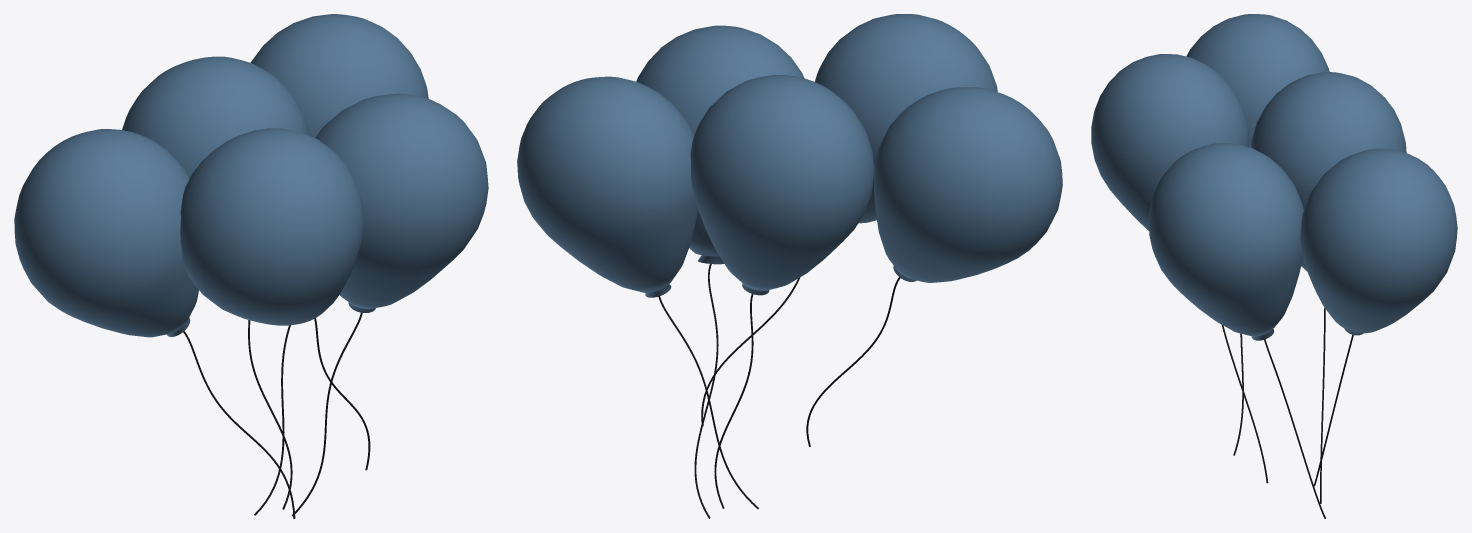
Rendered from balloons.fbx.
3 views of the same model, side by side, from view 1: azimuth 30°, elevation 25°; view 2: azimuth 150°, elevation 25°; view 3: azimuth 270°, elevation 25° (orthographic). The views are drawn at different scales.
Visible parts, largest first — view 1: Sphere.001, Sphere.004, Sphere.005, Sphere.002, Sphere.003, NurbsPath.001; view 2: Sphere.002, Sphere.003, Sphere.001, Sphere.004, Sphere.005, NurbsPath.001; view 3: Sphere.005, Sphere.003, Sphere.004, Sphere.002, Sphere.001, NurbsPath.001.
Boxes of the visible parts, bbox=[...] form: Sphere.001: bbox=[14, 129, 198, 337]; Sphere.004: bbox=[180, 128, 363, 325]; Sphere.005: bbox=[315, 93, 488, 312]; Sphere.002: bbox=[122, 56, 308, 178]; Sphere.003: bbox=[250, 14, 428, 137]; NurbsPath.001: bbox=[183, 312, 370, 518]; Sphere.002: bbox=[690, 75, 874, 295]; Sphere.003: bbox=[517, 76, 698, 297]; Sphere.001: bbox=[874, 87, 1062, 282]; Sphere.004: bbox=[815, 14, 997, 223]; Sphere.005: bbox=[636, 25, 804, 264]; NurbsPath.001: bbox=[658, 264, 900, 518]; Sphere.005: bbox=[1149, 143, 1303, 340]; Sphere.003: bbox=[1300, 148, 1457, 335]; Sphere.004: bbox=[1091, 54, 1248, 230]; Sphere.002: bbox=[1251, 72, 1406, 271]; Sphere.001: bbox=[1186, 14, 1329, 147]; NurbsPath.001: bbox=[1221, 307, 1353, 518].
Size of the model in its own units: 1099 by 1069 by 865.
